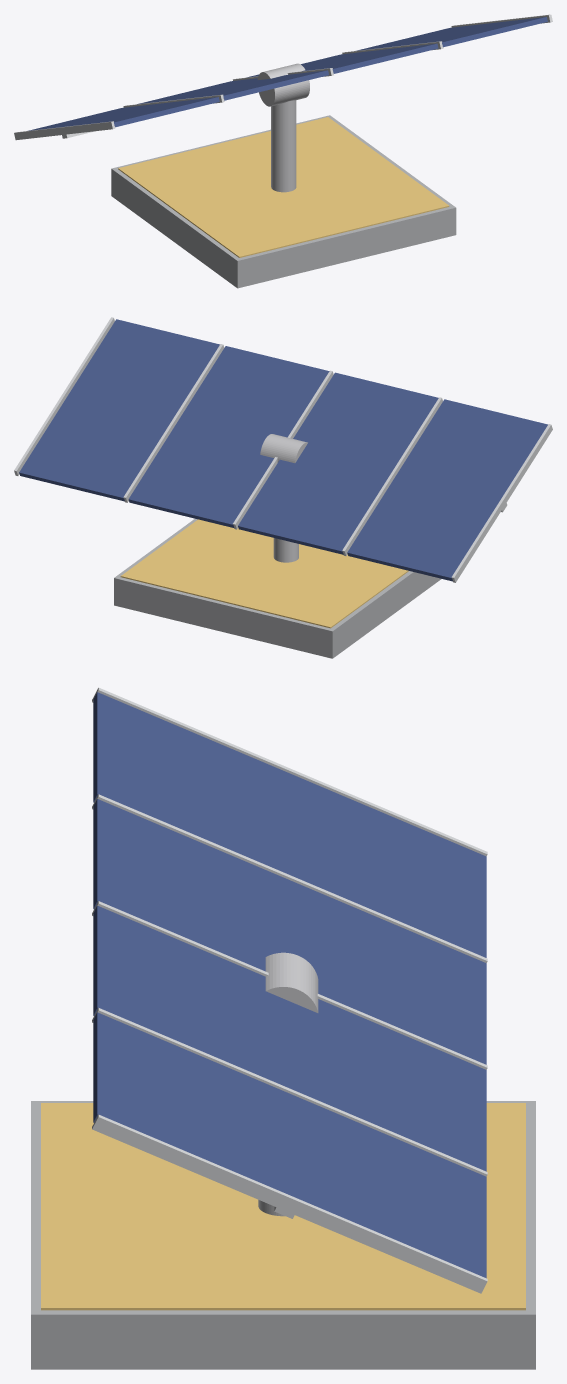
File: rover28_solar_mount_s_deployed.glb
3 views of the same model, one above another, from view 1: azimuth 30°, elevation 25°; view 2: azimuth 150°, elevation 25°; view 3: azimuth 270°, elevation 25° (orthographic). The views are drawn at different scales.
Parts seen in each view (by area): view 1: base_foil, base, panel_wing, mast, panel_frames; view 2: panel_wing, base_foil, base, panel_frames, mast; view 3: panel_wing, base_foil, base, panel_frames, mast.
Boxes of the visible parts, bbox=[...] form: base_foil: bbox=[118, 117, 449, 257]; base: bbox=[111, 115, 456, 288]; panel_wing: bbox=[28, 17, 547, 130]; mast: bbox=[257, 63, 309, 192]; panel_frames: bbox=[14, 14, 552, 140]; panel_wing: bbox=[19, 319, 547, 581]; base_foil: bbox=[120, 519, 408, 628]; base: bbox=[114, 518, 441, 658]; panel_frames: bbox=[14, 317, 552, 582]; mast: bbox=[260, 434, 307, 562]; panel_wing: bbox=[93, 692, 486, 1278]; base_foil: bbox=[41, 1103, 525, 1310]; base: bbox=[31, 1101, 535, 1369]; panel_frames: bbox=[92, 687, 487, 1293]; mast: bbox=[258, 952, 318, 1216].
Bounding box in the file's own units: 2.01 × 0.7904 × 1.
